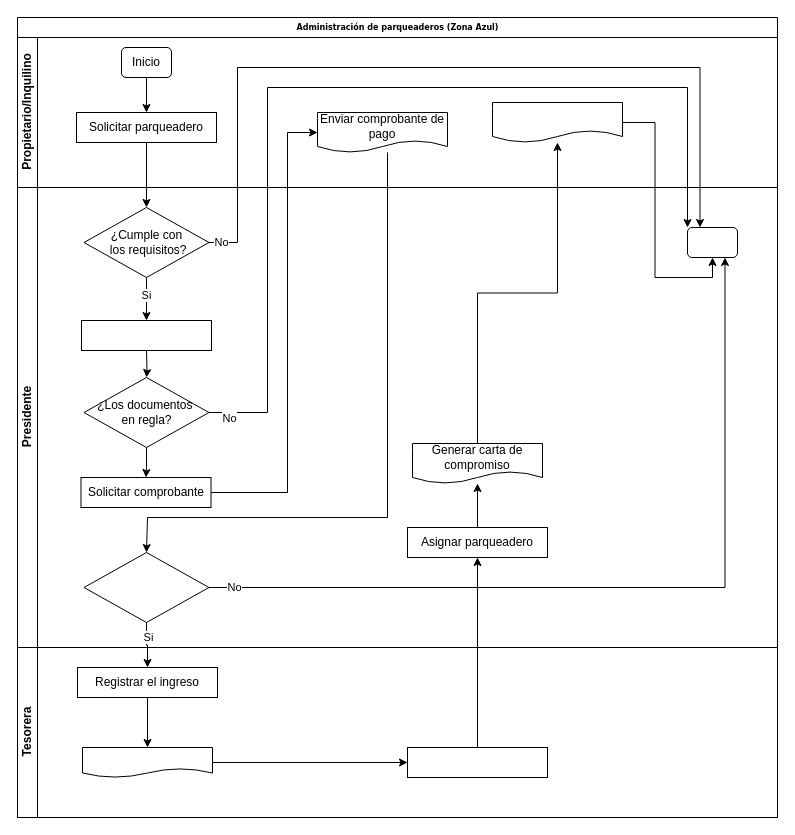
Some shapes in this 795 by 835 pixel diagram are drawn without their labels. The shapes that lost their labels are listed below. From the top down, each one's centre as x and y in pixels, then its label:
pixel 557 122: Recibir Comprobante de pago
pixel 712 242: Fin
pixel 146 335: Solicitar Documentos
pixel 146 587: ¿Comprobante válido ?
pixel 147 762: Generar orden de pago
pixel 477 762: Guardar foto de la orden de pago
